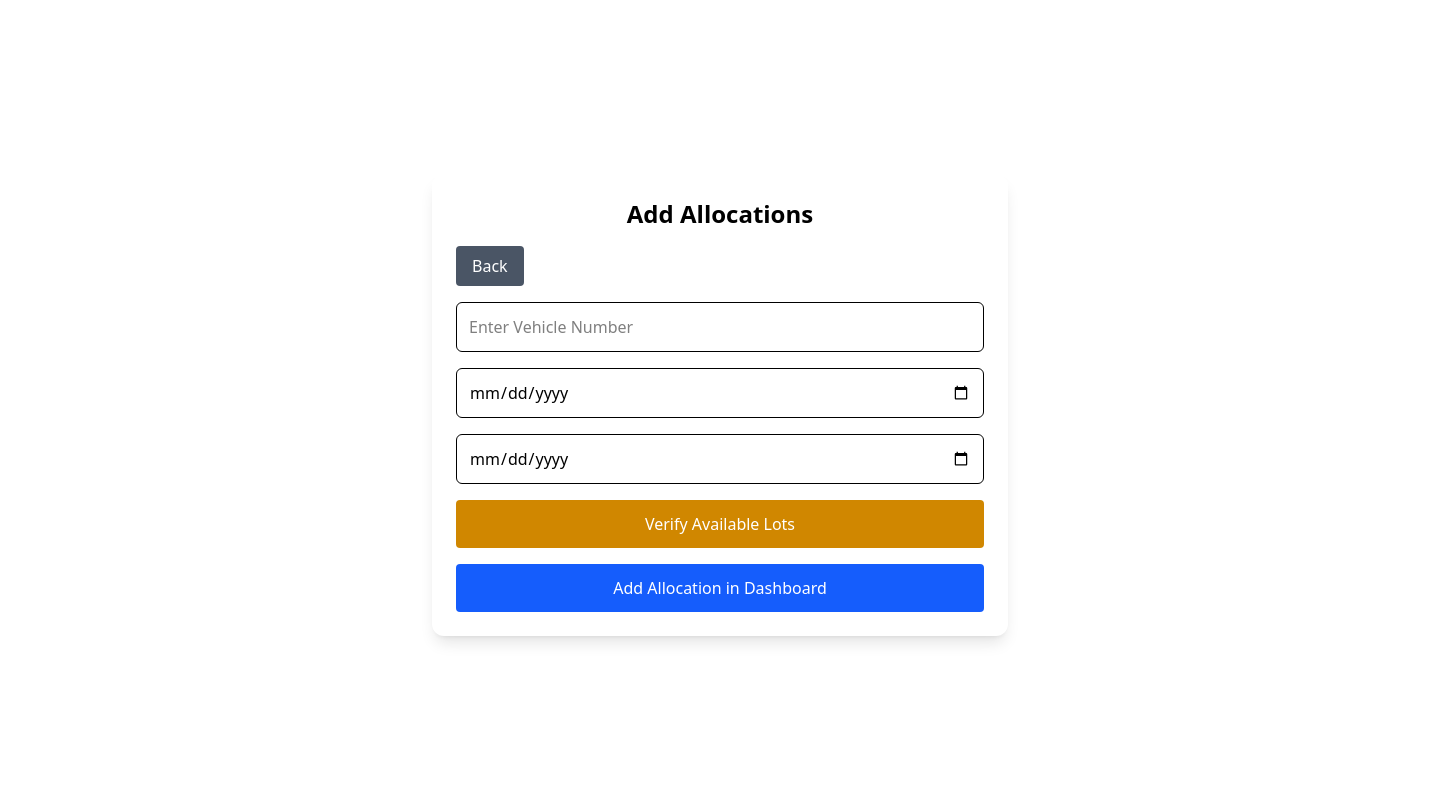
it: AddAllocationForm › shows error message if fetching lots fails
Type "2025-08-01" into the 1st date field named "allocated from date". click: (720,393)
box: left=456, top=368, right=984, bottom=418
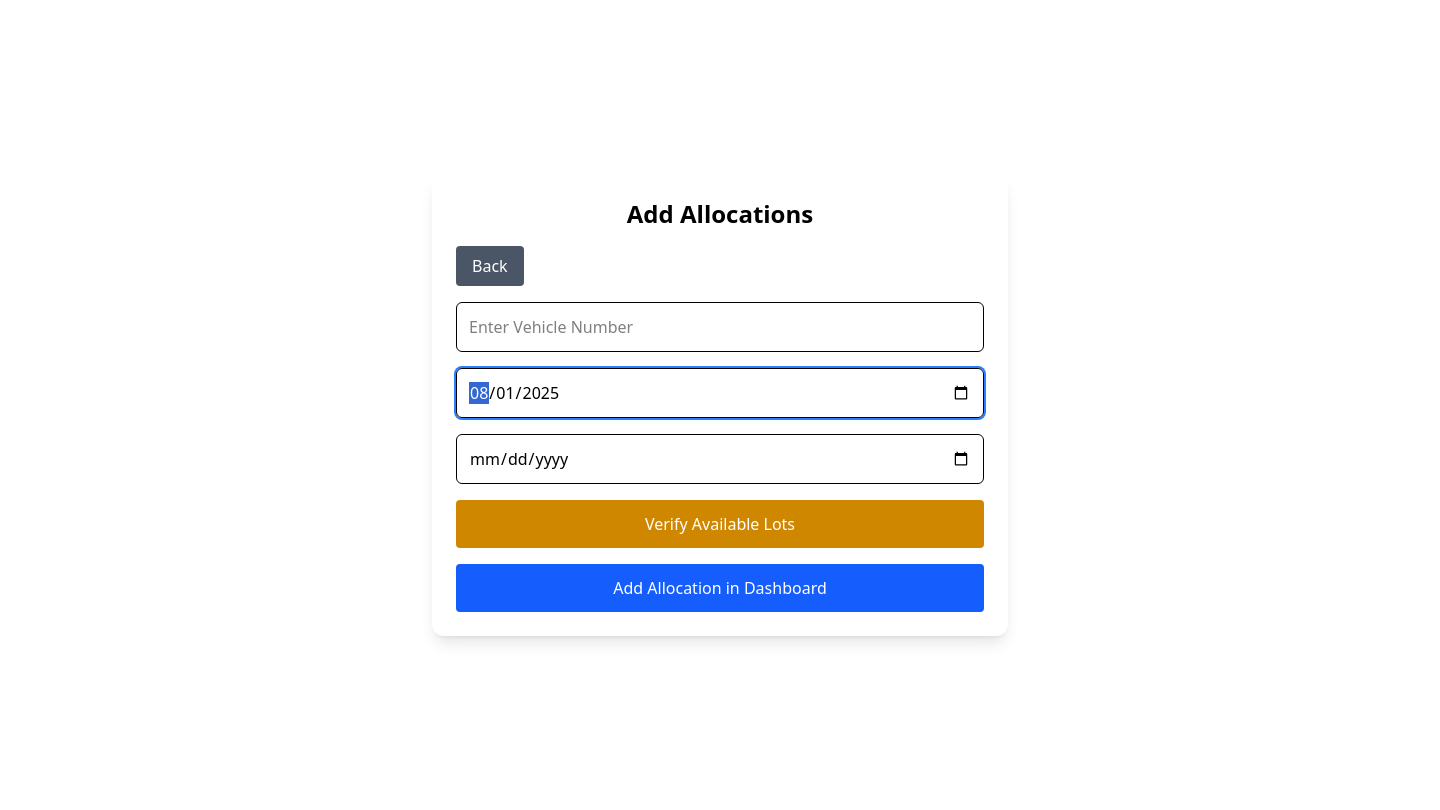
Type "2025-08-10" into the 2nd date field named "allocated upto date". click: (720,459)
box: left=456, top=434, right=984, bottom=484
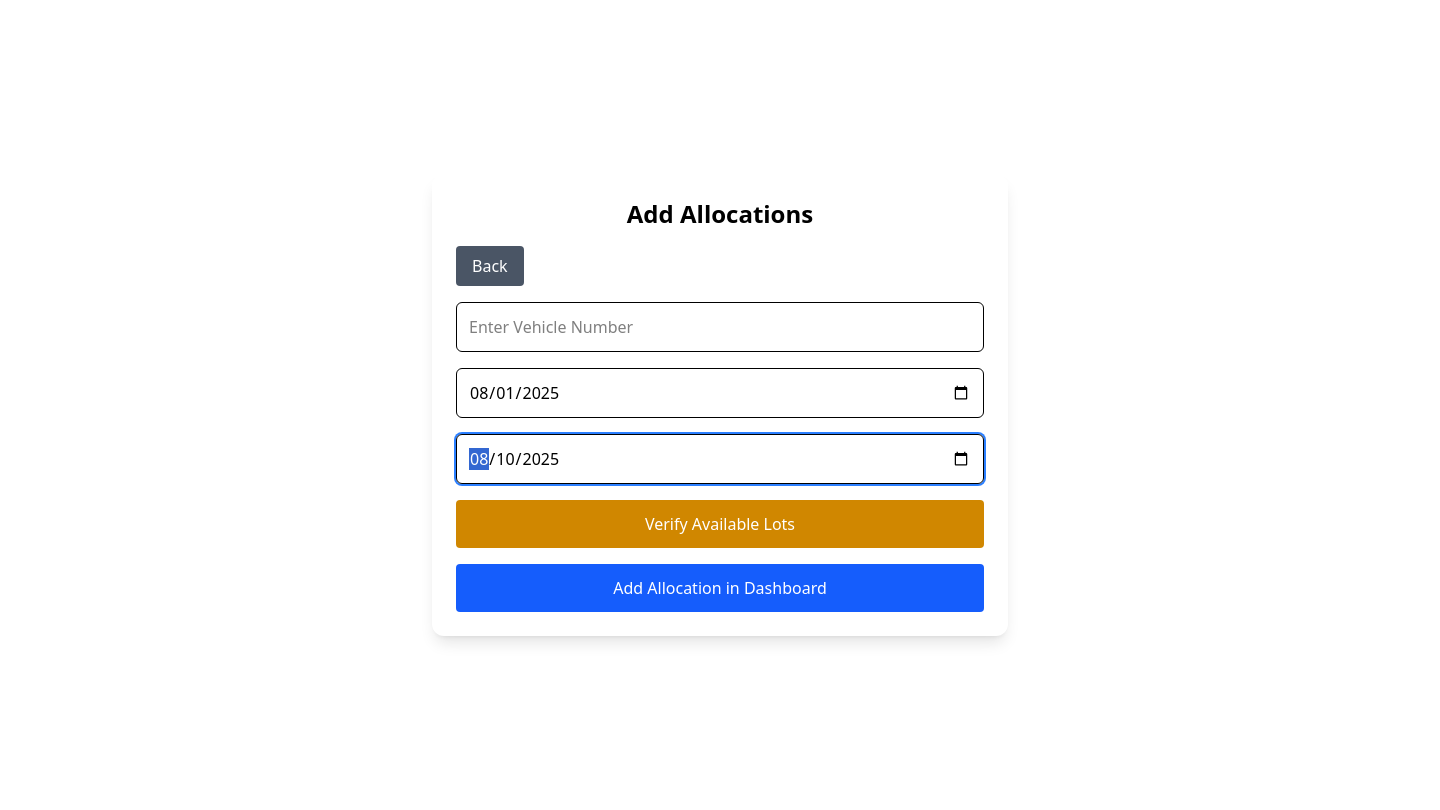
Click the button "Verify Available Lots". click: (720,524)
box: left=456, top=500, right=984, bottom=548
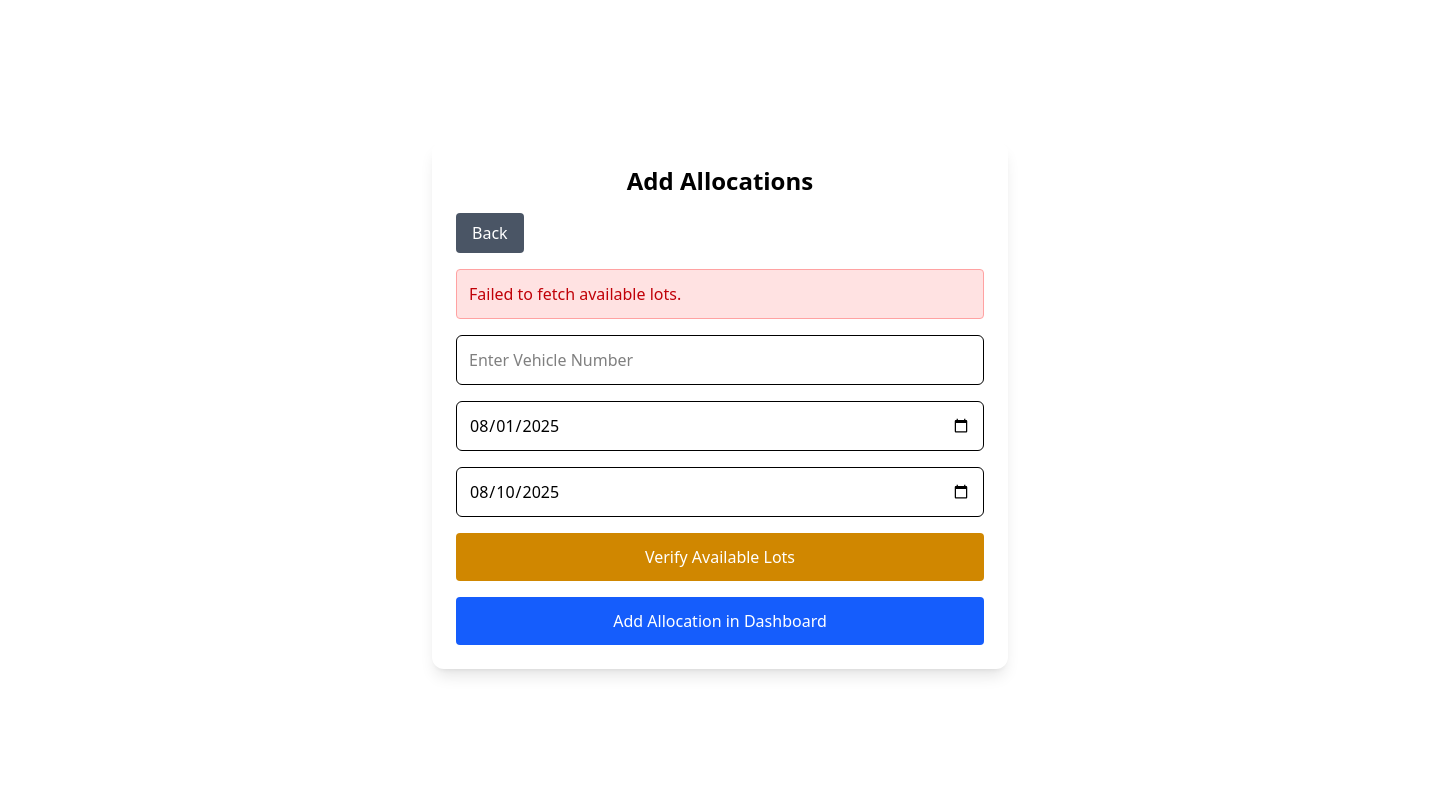
Expected: the text "Failed to fetch available lots." is shown, left=456, top=269, right=984, bottom=319
